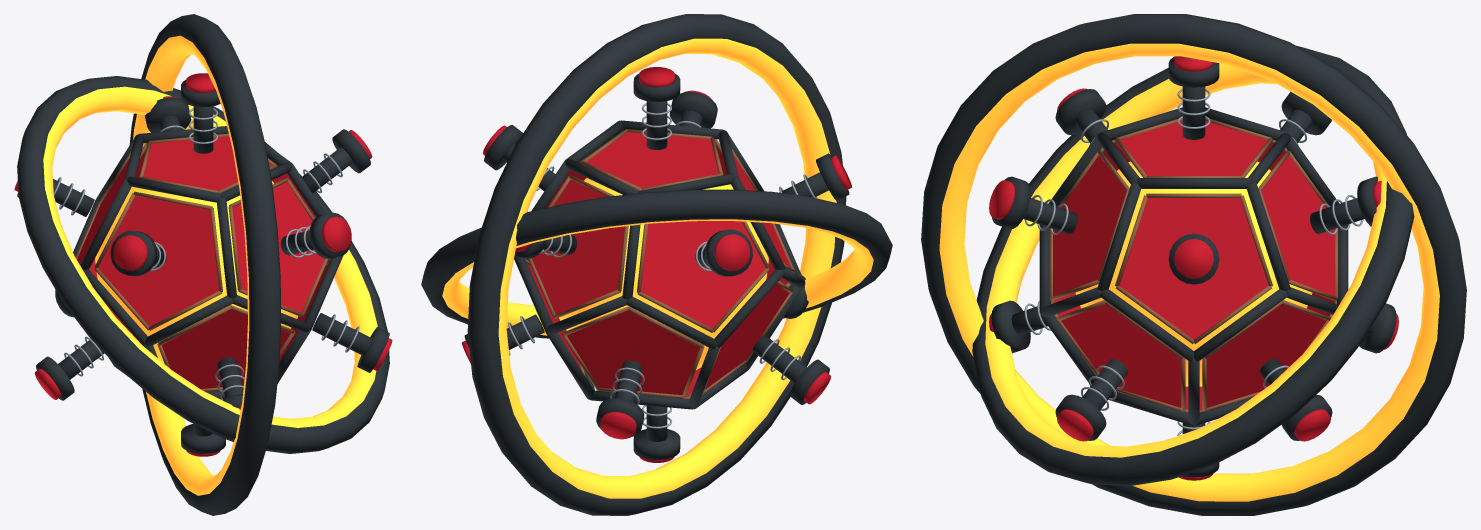
File: boss.glb
The picture shows the model from 3 angles, left to right: view 1: azimuth 30°, elevation 25°; view 2: azimuth 150°, elevation 25°; view 3: azimuth 270°, elevation 25°; orthographic projection. The views are drawn at different scales.
Parts seen in each view (by area): view 1: body_ruby.010, body_armor.005, orbit1_armor.004, orbit0_armor.004, orbit0_amber.004, orbit1_amber.004, body_copper.022, body_ruby.011, nucleus_amber.005, body_steel.155; view 2: body_ruby.010, body_armor.005, orbit1_armor.004, orbit1_amber.004, orbit0_armor.004, body_copper.022, orbit0_amber.004, body_ruby.011, nucleus_amber.005, body_steel.155; view 3: body_ruby.010, orbit1_armor.004, body_armor.005, orbit1_amber.004, orbit0_armor.004, orbit0_amber.004, body_copper.022, body_ruby.011, nucleus_amber.005, body_steel.155.
Boxes of the visible parts, x1,y1,x2,y2 form: body_ruby.010: (77, 136, 328, 389); body_armor.005: (17, 80, 389, 453); orbit1_armor.004: (129, 14, 281, 515); orbit0_armor.004: (17, 76, 389, 453); orbit0_amber.004: (43, 86, 377, 427); orbit1_amber.004: (133, 35, 249, 495); body_copper.022: (75, 133, 330, 391); body_ruby.011: (14, 73, 392, 456); nucleus_amber.005: (95, 181, 298, 363); body_steel.155: (53, 108, 359, 400); body_ruby.010: (527, 132, 791, 396); body_armor.005: (464, 74, 849, 459); orbit1_armor.004: (467, 14, 846, 515); orbit1_amber.004: (498, 38, 836, 498); orbit0_armor.004: (421, 189, 892, 338); body_copper.022: (525, 129, 795, 398); orbit0_amber.004: (442, 219, 873, 335); body_ruby.011: (462, 67, 851, 462); nucleus_amber.005: (559, 177, 768, 369); body_steel.155: (508, 103, 817, 428); body_ruby.010: (1053, 121, 1334, 409); orbit1_armor.004: (921, 14, 1466, 515); body_armor.005: (991, 56, 1396, 477); orbit1_amber.004: (939, 43, 1439, 501); orbit0_armor.004: (972, 46, 1414, 485); orbit0_amber.004: (985, 63, 1386, 457); body_copper.022: (1049, 118, 1338, 412); body_ruby.011: (989, 56, 1398, 480); nucleus_amber.005: (1075, 161, 1312, 386); body_steel.155: (1024, 89, 1363, 435).
Bounding box in the file's own units: 1.1 × 1.31 × 1.27.
